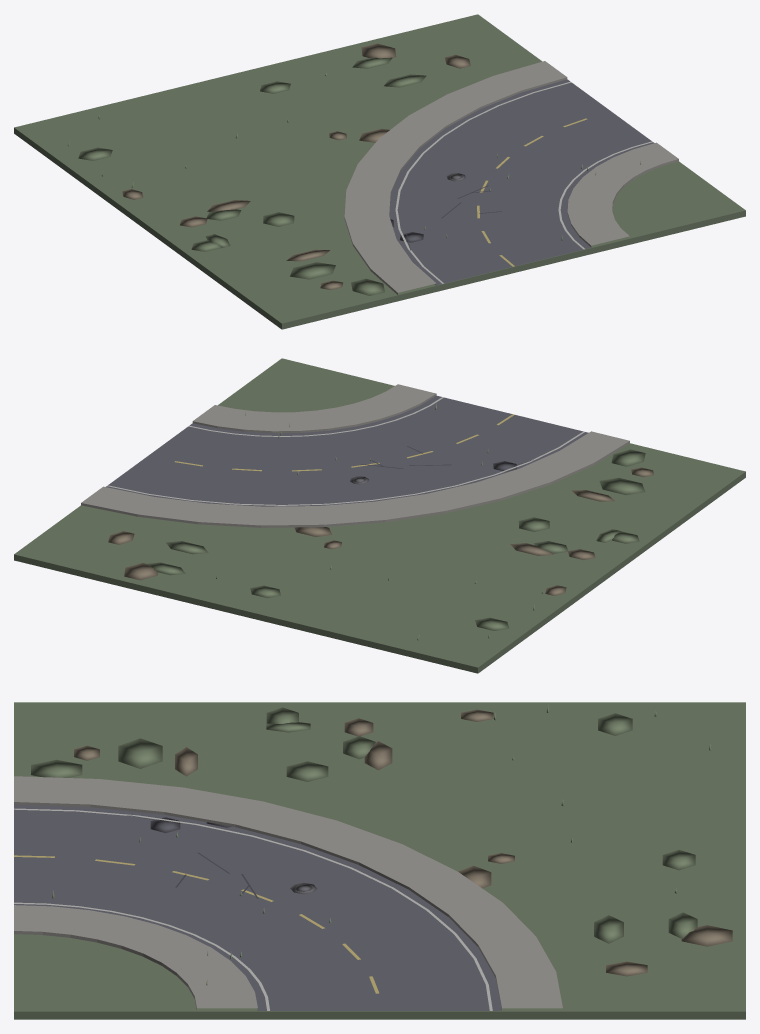
Rendered from rua_curva.glb.
3 renders of one model, top to bottom at view 1: azimuth 30°, elevation 25°; view 2: azimuth 150°, elevation 25°; view 3: azimuth 270°, elevation 25°, orthographic. The views are drawn at different scales.
Visible parts, largest first — view 1: rua_curva; view 2: rua_curva; view 3: rua_curva.
Boxes of the visible parts, bbox=[...] form: rua_curva: bbox=[14, 14, 745, 329]; rua_curva: bbox=[14, 358, 745, 673]; rua_curva: bbox=[14, 702, 745, 1019].
Bounding box in the file's own units: 24 × 0.656 × 24.
